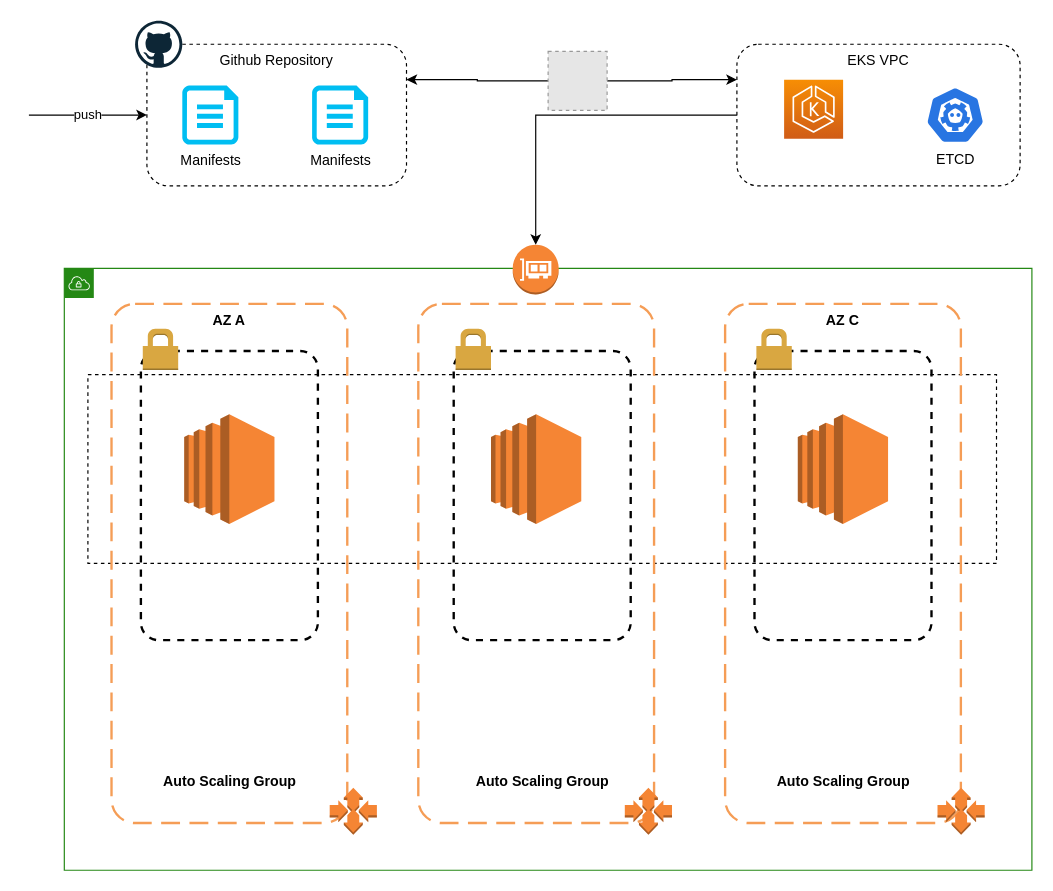
The diagram is 1053 pixels wide and 891 high, and some of its shapes have lost their labels. Grey dashed boxes stand in for pictures. Here are the shapes that lost their labels. From the top down, the box of each, then its label:
(783, 78, 843, 139): EKS Control Place
(87, 373, 997, 563): Managed Node Group
(417, 302, 655, 824): AZ B
